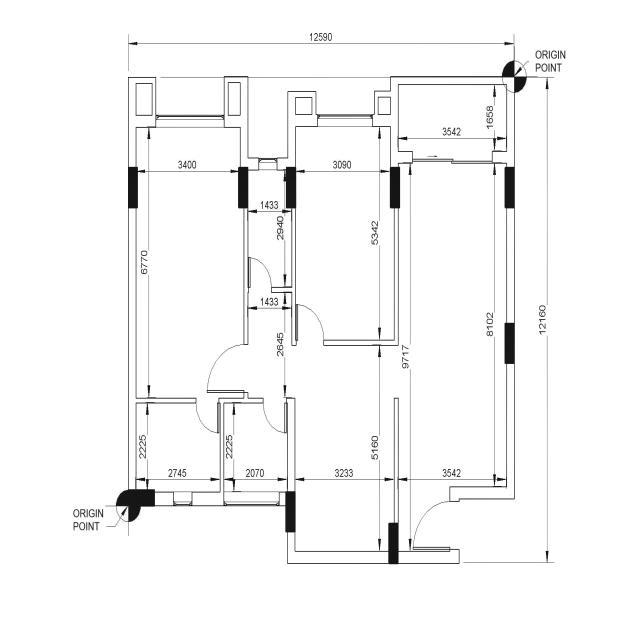Column: (128, 489, 155, 507), (128, 166, 138, 208), (388, 522, 398, 564), (504, 166, 514, 208), (390, 166, 400, 208), (286, 166, 296, 208), (238, 166, 248, 208), (504, 323, 514, 364), (286, 492, 296, 532)
Door: (412, 498, 460, 552), (206, 344, 248, 398), (295, 304, 324, 346), (248, 257, 272, 293), (196, 398, 220, 433), (263, 398, 287, 433)
Sliding Door: (412, 158, 492, 164)
Window: (156, 115, 224, 128), (223, 492, 280, 506), (317, 115, 373, 126), (258, 157, 278, 170), (174, 492, 192, 506)
